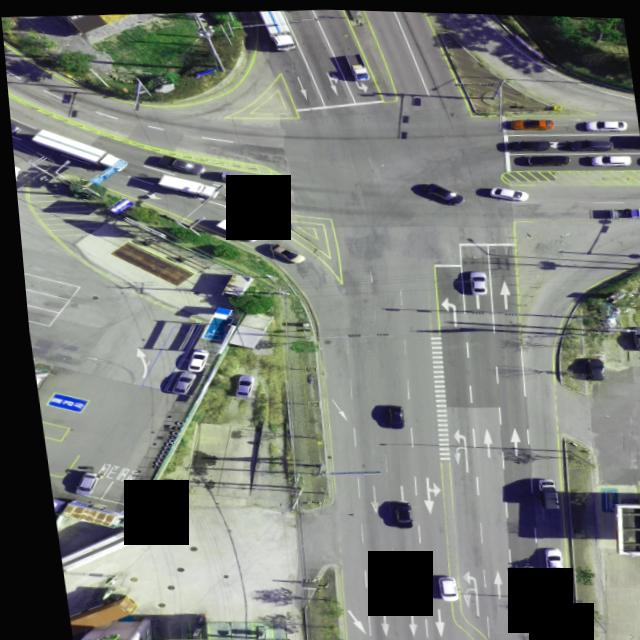car: (154, 151, 205, 176), (230, 187, 281, 207), (216, 168, 265, 187), (266, 241, 303, 264), (497, 135, 550, 150), (61, 470, 94, 494), (516, 148, 567, 163), (421, 179, 457, 200), (504, 116, 554, 130), (161, 369, 188, 393), (382, 499, 405, 527), (179, 348, 205, 372), (485, 183, 526, 198), (567, 135, 610, 148), (226, 372, 249, 396), (583, 114, 625, 127), (588, 148, 629, 161), (532, 544, 553, 569), (427, 573, 448, 598), (378, 403, 399, 428), (620, 321, 640, 347), (580, 354, 599, 377), (464, 268, 482, 292), (8, 119, 22, 134), (632, 151, 640, 161)
medium_truck: (26, 126, 126, 176), (50, 530, 139, 576), (150, 168, 215, 198), (256, 7, 297, 50)
small_truck: (210, 215, 257, 241), (527, 477, 550, 507), (345, 53, 368, 80), (605, 203, 640, 217)
